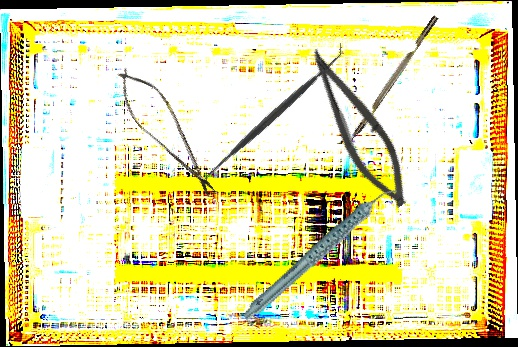Chopper: (338, 14, 446, 160)
Handpiece: (223, 185, 418, 323)
Micro Scissor: (289, 41, 425, 216), (105, 59, 229, 205)
Spatula Surgical: (194, 41, 354, 188)
